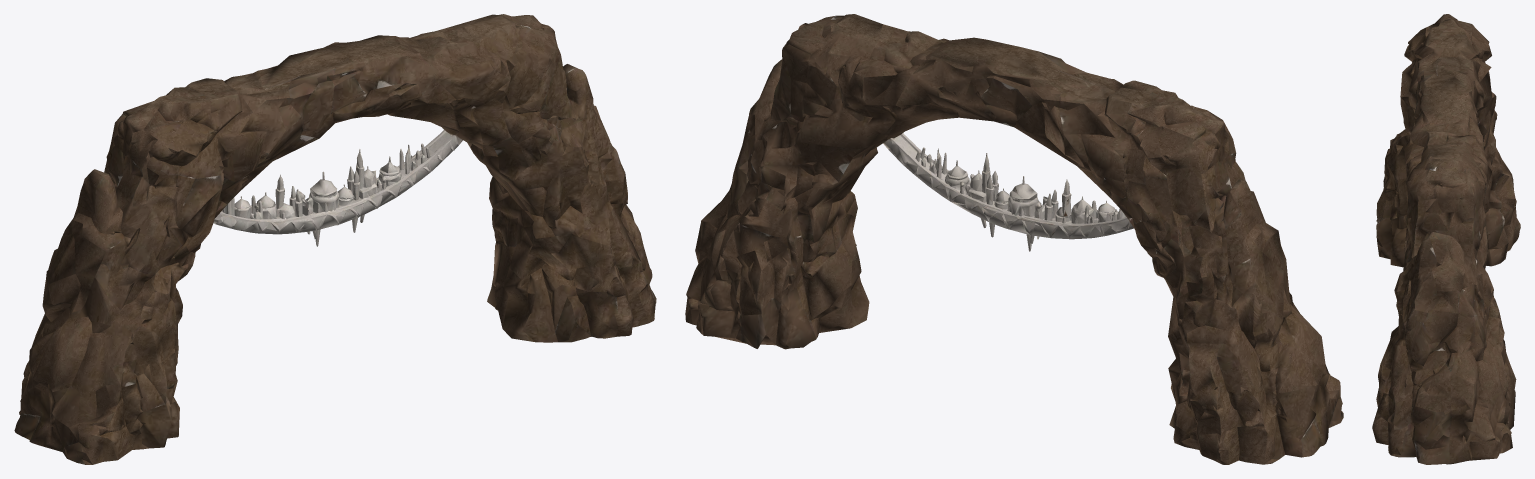
Rendered from catobridge.lod1.glb.
The picture shows the model from 3 angles, left to right: view 1: azimuth 30°, elevation 25°; view 2: azimuth 150°, elevation 25°; view 3: azimuth 270°, elevation 25°; orthographic projection. The views are drawn at different scales.
Visible parts, largest first — view 1: catobridge-centred; view 2: catobridge-centred; view 3: catobridge-centred.
Boxes of the visible parts, x1,y1,x2,y2 form: catobridge-centred: [14, 14, 656, 464]; catobridge-centred: [685, 14, 1343, 464]; catobridge-centred: [1372, 14, 1520, 464].
Bounding box in the file's own units: 170 × 81.94 × 43.11.
Materials: 1 (1 with a texture image).
